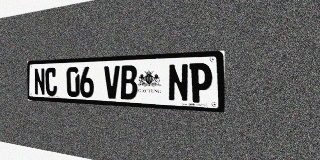0: (66, 67, 80, 97)
6: (80, 66, 94, 98)
B: (120, 65, 137, 100)
C: (45, 67, 57, 96)
N: (168, 63, 189, 102), (34, 68, 45, 96)
P: (189, 63, 212, 103)
V: (104, 66, 120, 99)
